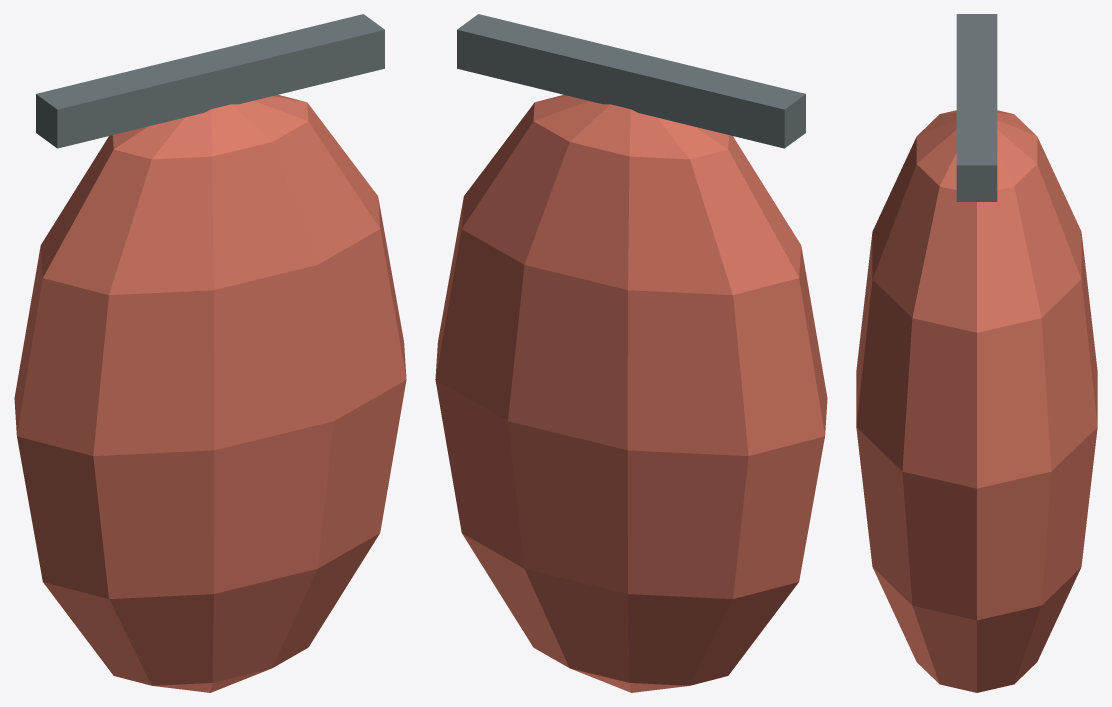
File: supermarket-operations-pet-food-sack-59723f4e__26948.glb
3 views of the same model, side by side, from view 1: azimuth 30°, elevation 25°; view 2: azimuth 150°, elevation 25°; view 3: azimuth 270°, elevation 25° (orthographic). The views are drawn at different scales.
Parts seen in each view (by area): view 1: pet-food-sack; view 2: pet-food-sack; view 3: pet-food-sack.
Boxes of the visible parts, x1,y1,x2,y2 form: pet-food-sack: (14, 14, 406, 692); pet-food-sack: (435, 14, 827, 692); pet-food-sack: (856, 14, 1097, 692).
Bounding box in the file's own units: 0.26 × 0.405 × 0.1484.
